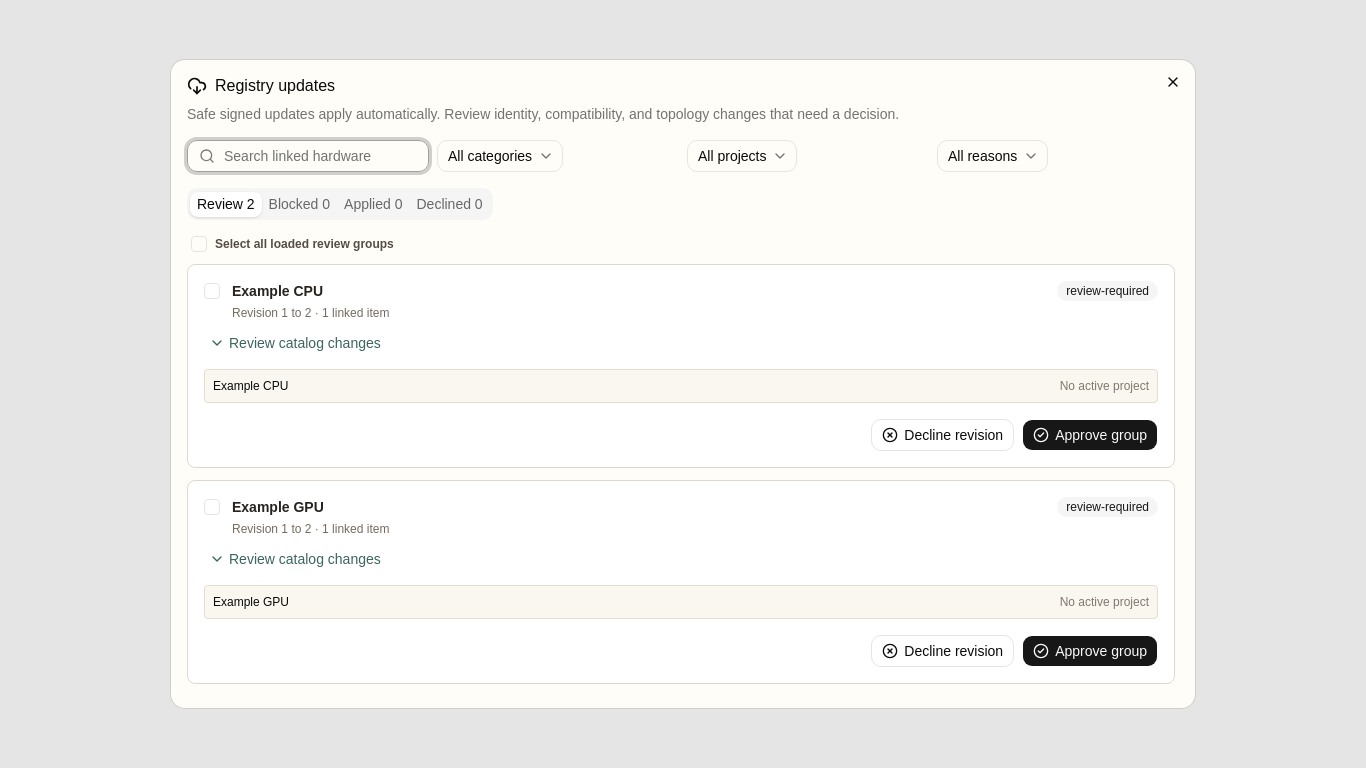
Test: RegistryUpdatesDialog › moves an authoritative decision to Applied and does not reappear after refetch
Click the 1st button "Approve group": (1090,435) [1022,419,1158,451]
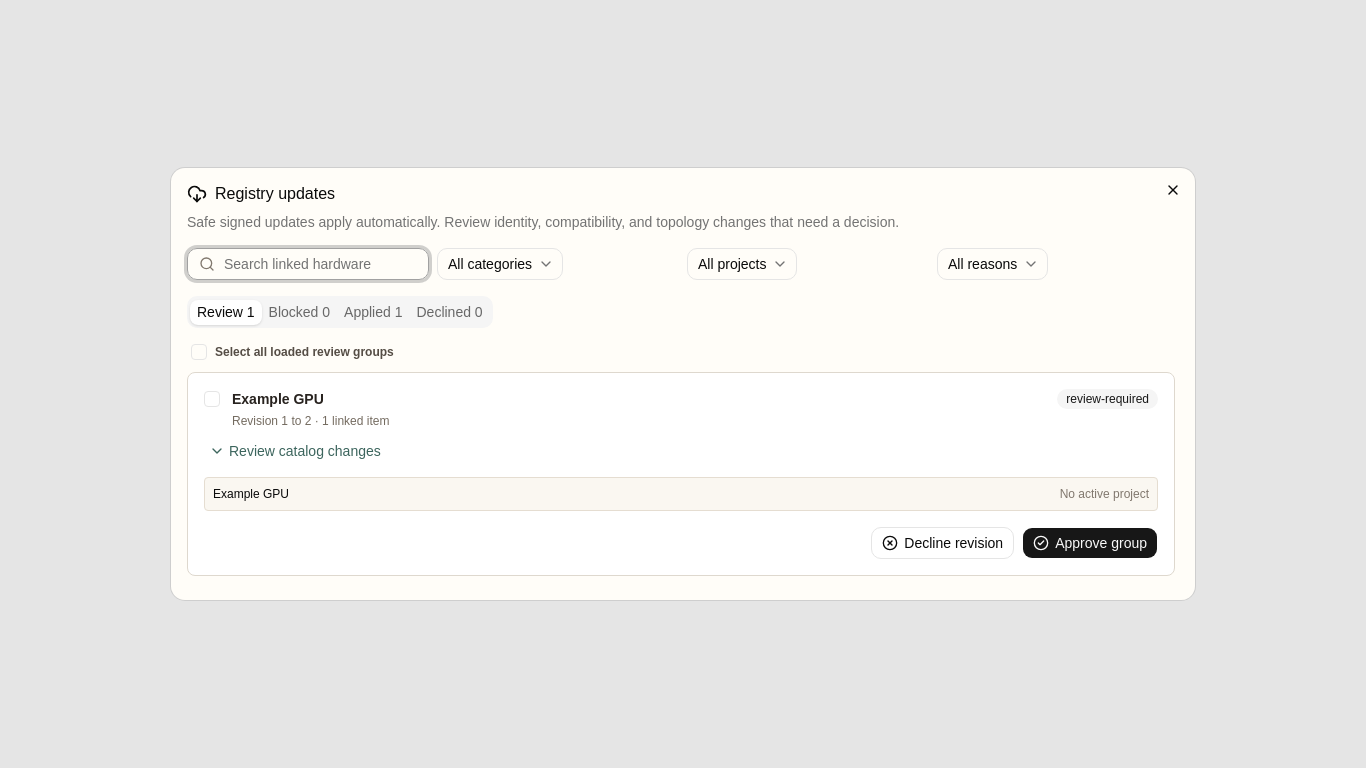
expect the heading "Example CPU" is gone: met
expect the tab "Applied 1" is shown: met, box [337,300,410,324]
